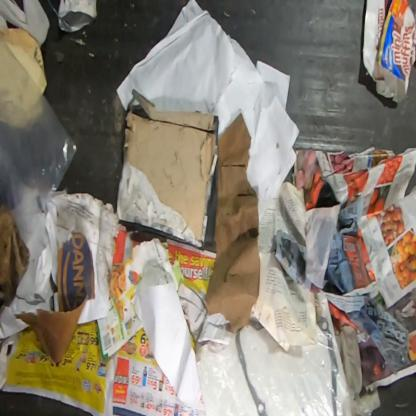cardboard: (116, 88, 220, 254), (50, 188, 120, 324), (362, 0, 415, 104), (0, 204, 31, 316)
soft_plastic: (196, 297, 353, 415), (0, 38, 78, 245), (333, 325, 382, 415), (58, 0, 97, 33)
